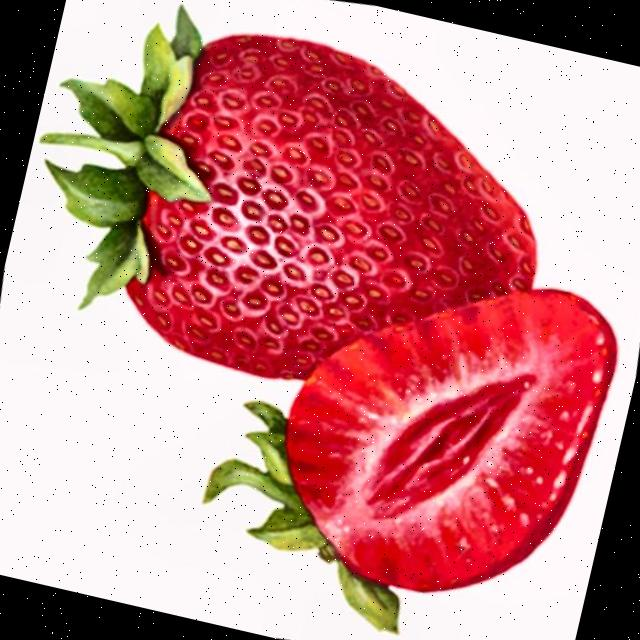strawberry: (42, 7, 535, 378), (204, 288, 615, 631)
